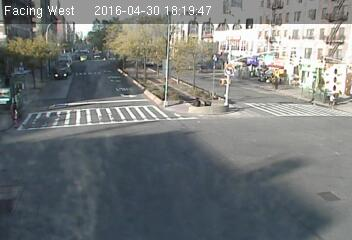neg: (42, 110, 76, 156), (180, 63, 211, 105), (30, 178, 60, 217), (233, 111, 260, 148), (50, 56, 77, 93), (123, 98, 147, 129), (113, 19, 137, 50), (303, 143, 325, 172), (253, 171, 274, 198), (190, 184, 210, 211), (271, 69, 290, 95), (174, 135, 191, 158), (99, 156, 116, 179), (310, 103, 326, 124)
